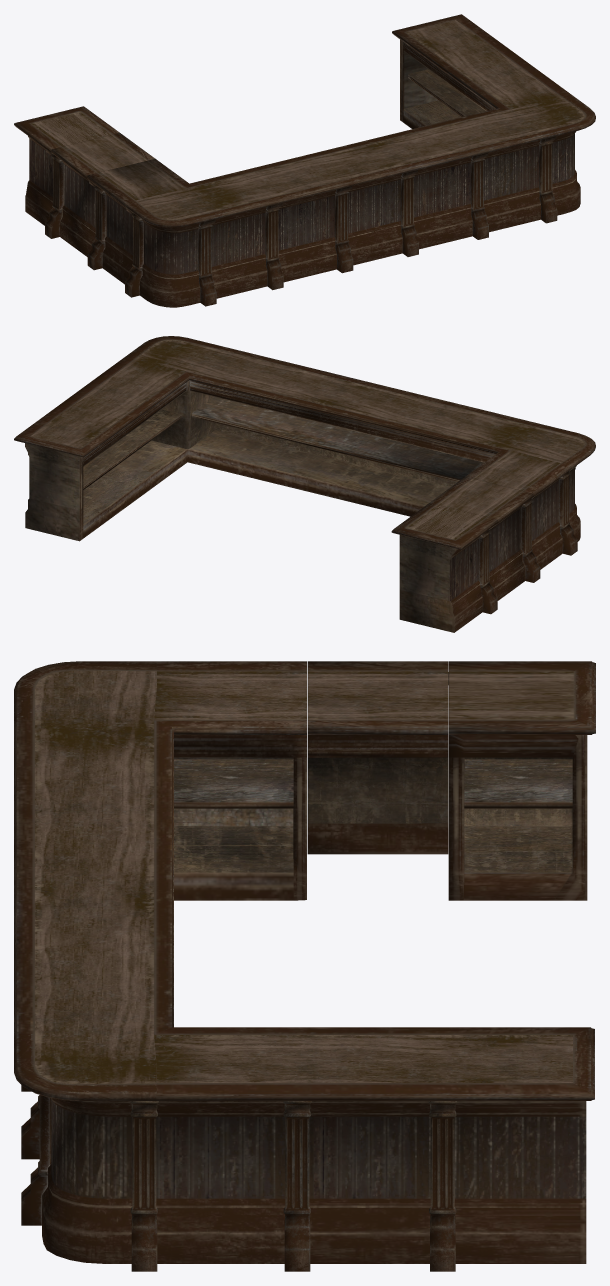
The model's file is counter.fbx.
The picture shows the model from 3 angles, top to bottom: view 1: azimuth 30°, elevation 25°; view 2: azimuth 150°, elevation 25°; view 3: azimuth 270°, elevation 25°; orthographic projection. The views are drawn at different scales.
Visible parts, largest first — view 1: 1-_Counter; view 2: 1-_Counter; view 3: 1-_Counter.
Part boxes in pixels (bbox=[...]): 1-_Counter: bbox=[14, 14, 595, 307]; 1-_Counter: bbox=[14, 336, 595, 632]; 1-_Counter: bbox=[14, 661, 595, 1271].
Size of the model in its own units: 12.65 by 2.43 by 7.18.
Materials: 1 (1 with a texture image).
